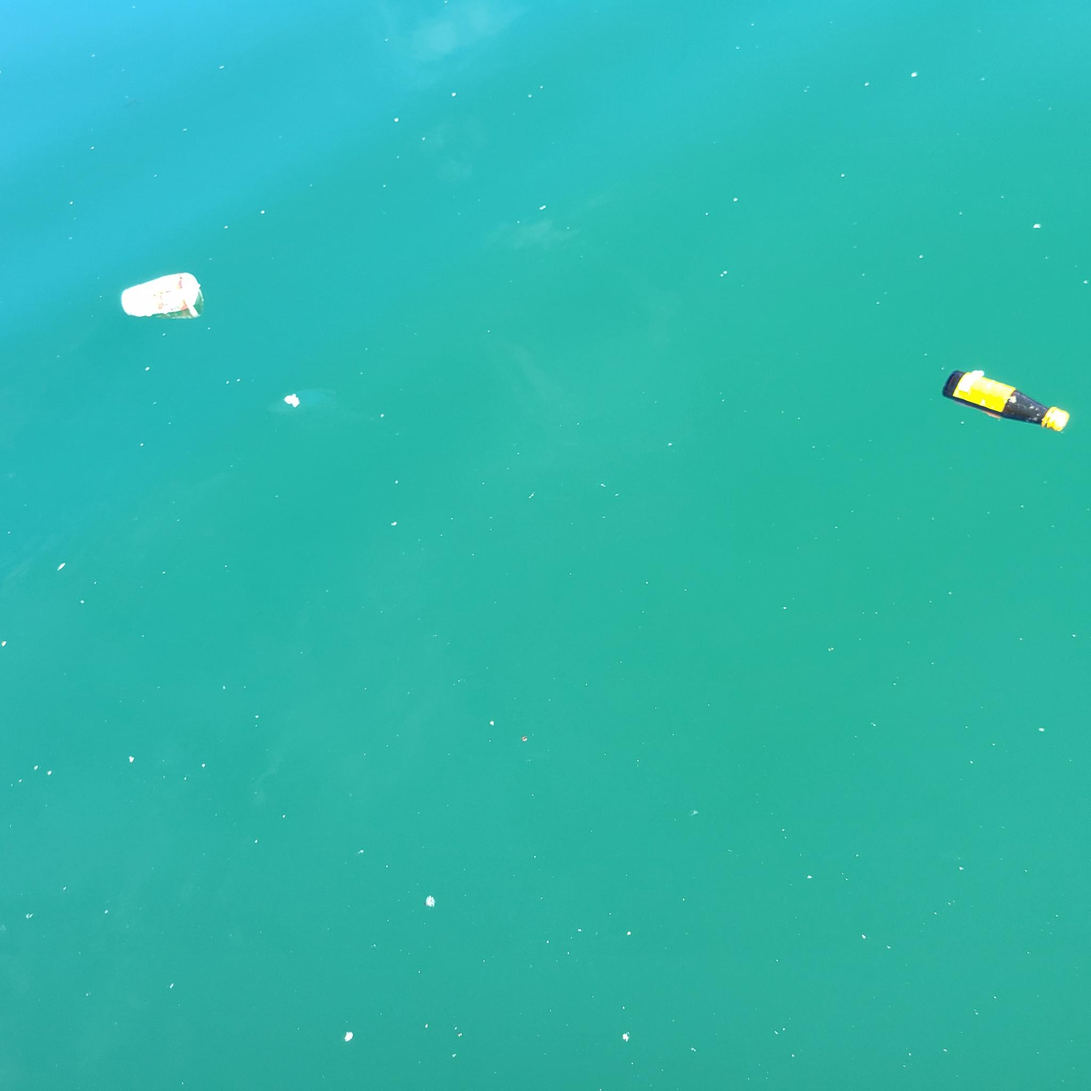sampah_terapung: (942, 370, 1070, 433), (121, 273, 201, 318)
